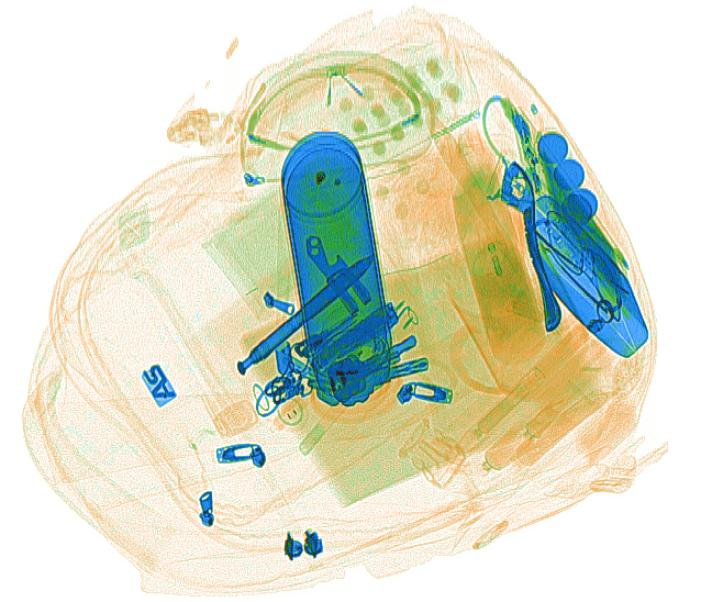plasticBottleWithaNozzle: (468, 212, 542, 369)
